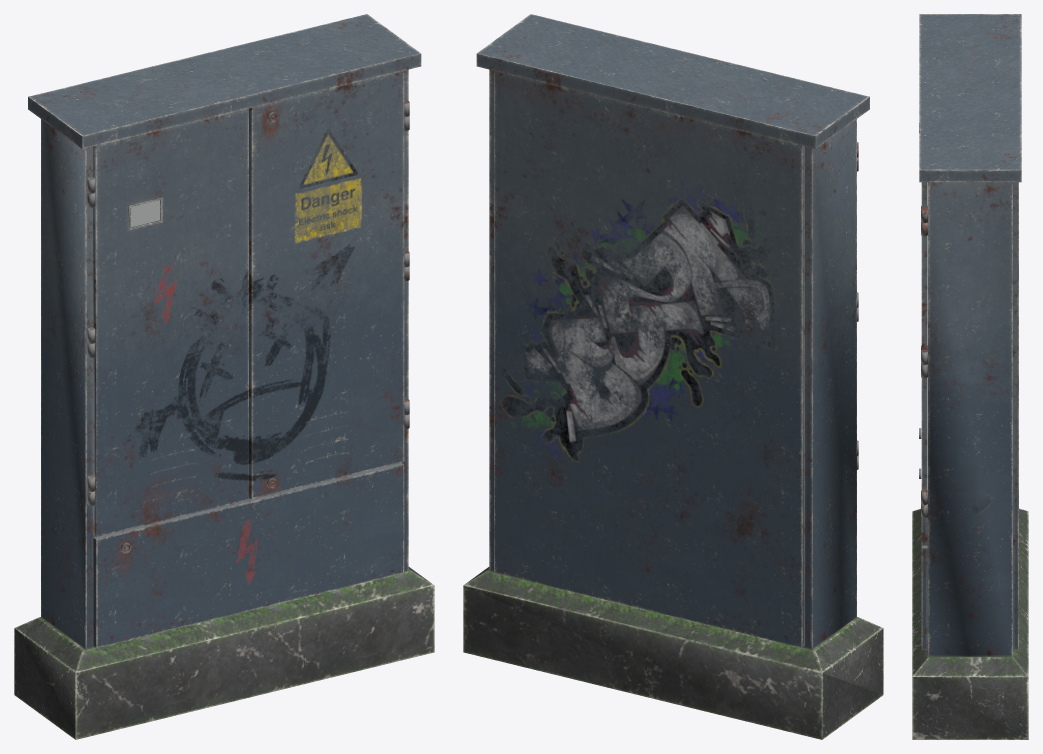
The model's file is Electronic box.glb.
The picture shows the model from 3 angles, left to right: view 1: azimuth 30°, elevation 25°; view 2: azimuth 150°, elevation 25°; view 3: azimuth 270°, elevation 25°; orthographic projection. The views are drawn at different scales.
Visible parts, largest first — view 1: Electrical switchboard; view 2: Electrical switchboard; view 3: Electrical switchboard.
Part boxes in pixels (box(x1,y1,x2,y2)): Electrical switchboard: box(14, 14, 434, 739); Electrical switchboard: box(463, 14, 883, 739); Electrical switchboard: box(912, 14, 1028, 739).
Size of the model in its own units: 1.3 by 2.07 by 0.385.
1 material, 1 textured.
